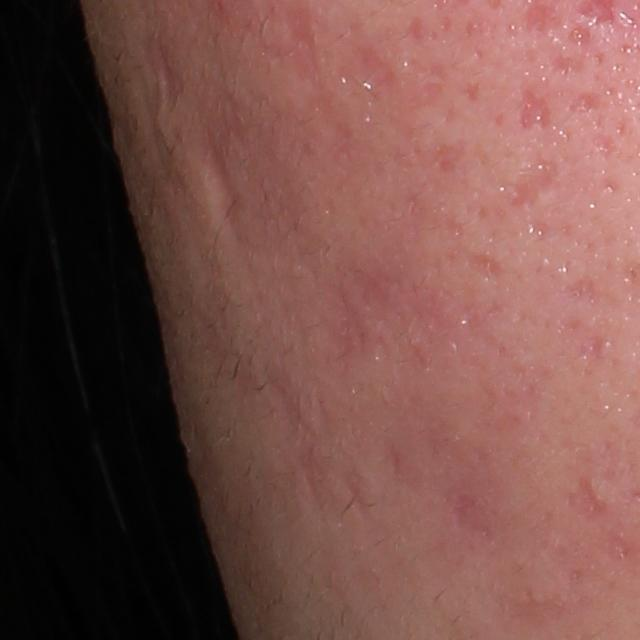atrophic_scar: (324, 260, 526, 391), (254, 364, 385, 552), (193, 122, 255, 283), (148, 11, 181, 136), (559, 470, 627, 524), (452, 489, 505, 551), (505, 154, 556, 217), (519, 80, 550, 129), (573, 325, 606, 367), (473, 246, 511, 278), (546, 47, 584, 76), (612, 531, 638, 566), (565, 275, 600, 301), (404, 11, 427, 50), (570, 88, 598, 116), (594, 134, 614, 161), (462, 79, 482, 101), (604, 177, 621, 193)
